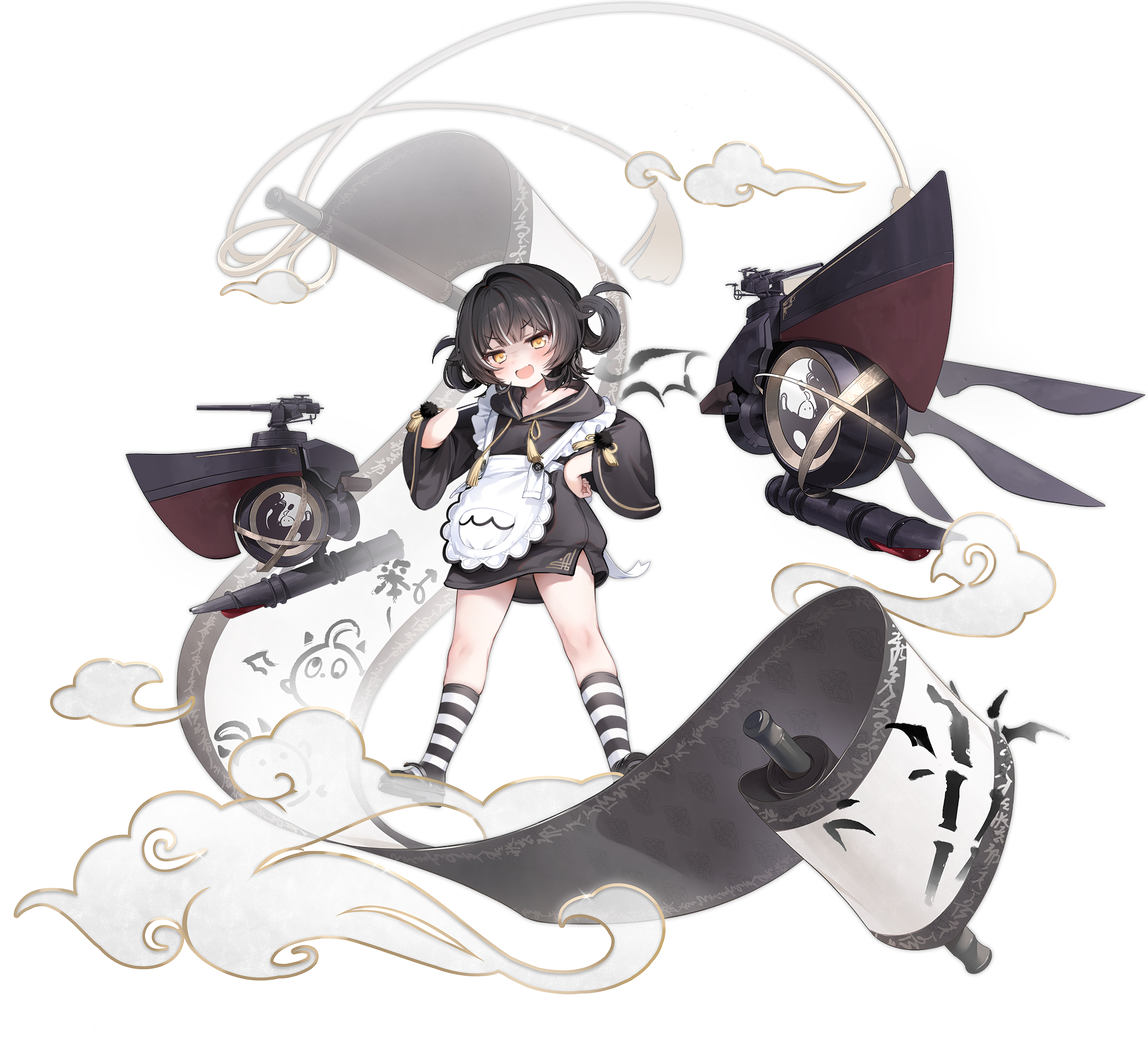person: (345, 241, 691, 847)
